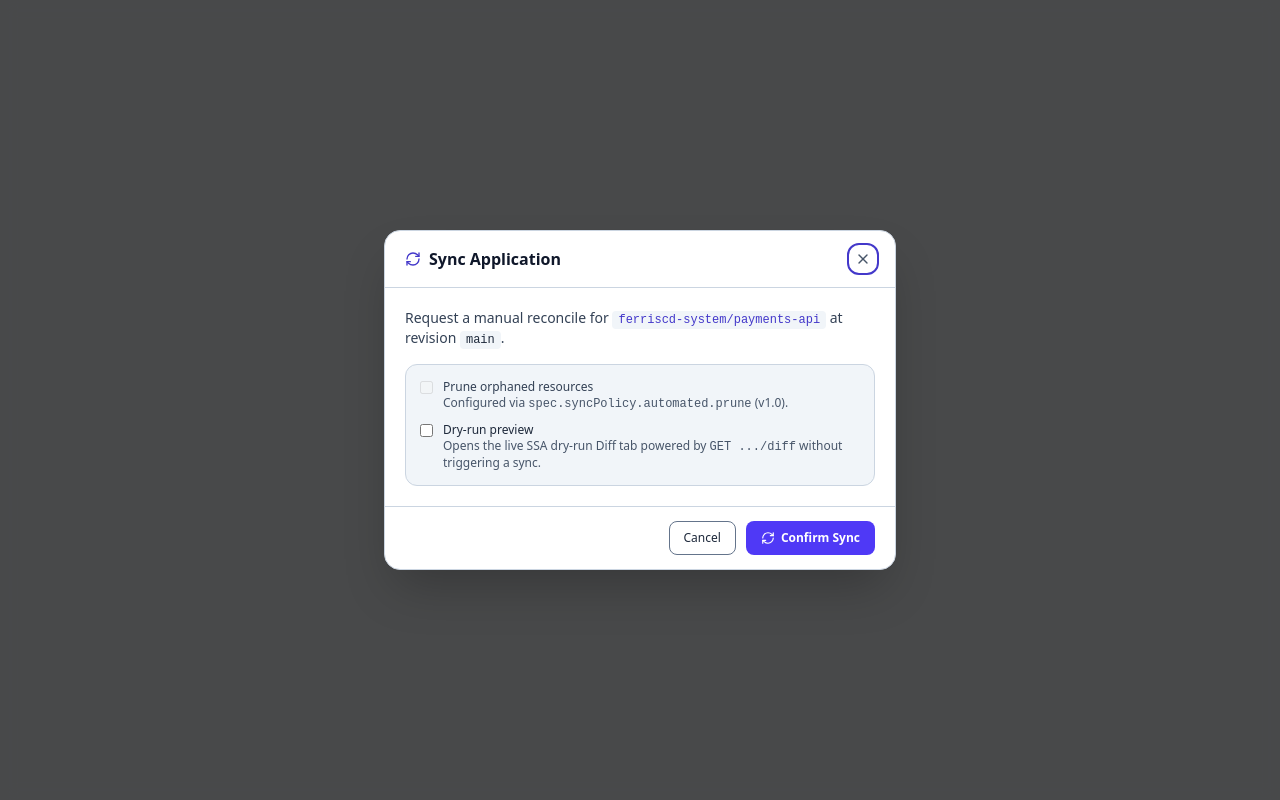
Test: SyncModal & RollbackModal (T16.4 & Trap Guard T16.4) › reports a 409 conflict for sync as a pending rollback instead of a bare status code (M6)
The image size is (1280, 800).
Click the button "Confirm Sync". click: [810, 538]
box: [746,521,875,555]
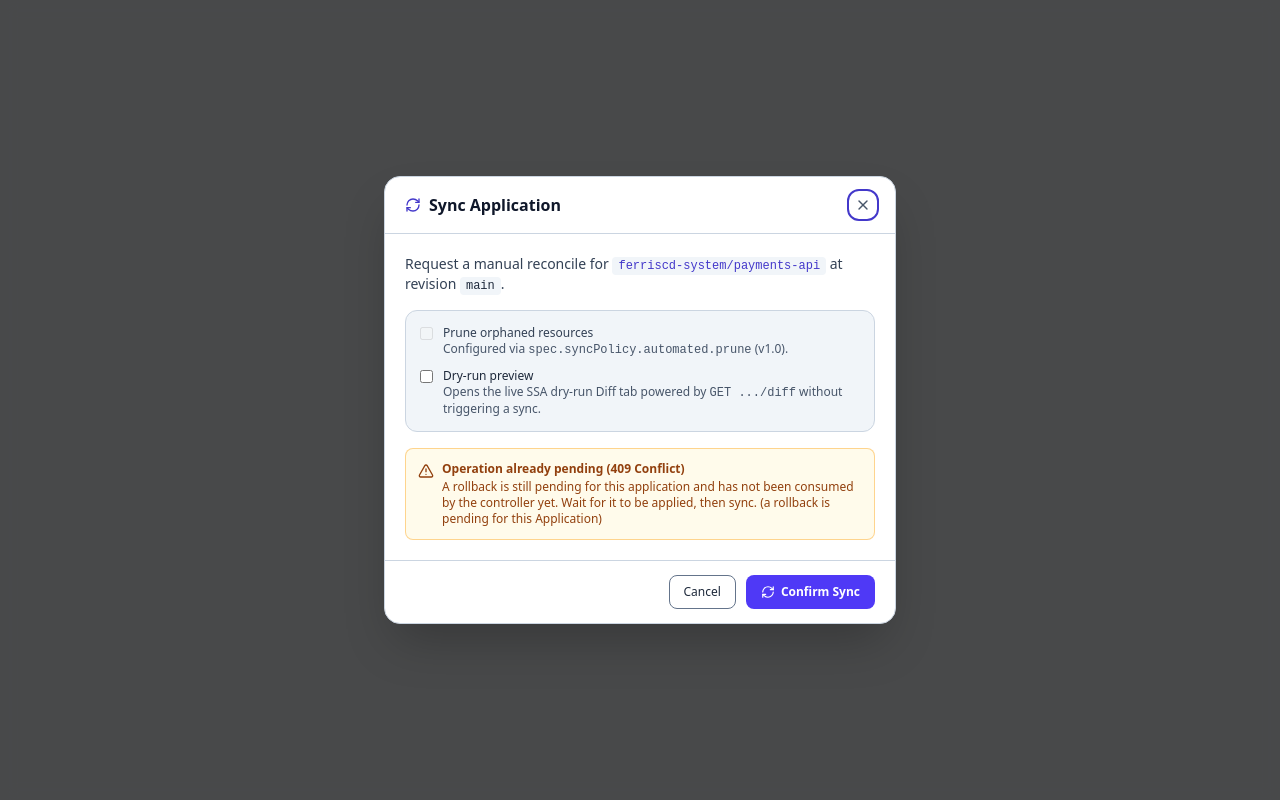
Check: the message with test id "sync-error" shows "Operation already pending (409 Conflict)", box [442,460,685,477]
Check: the message with test id "sync-error" shows "rollback is still pending", box [442,478,854,527]
Check: the message with test id "sync-error" shows "a rollback is pending for this Application", box [442,478,854,527]
